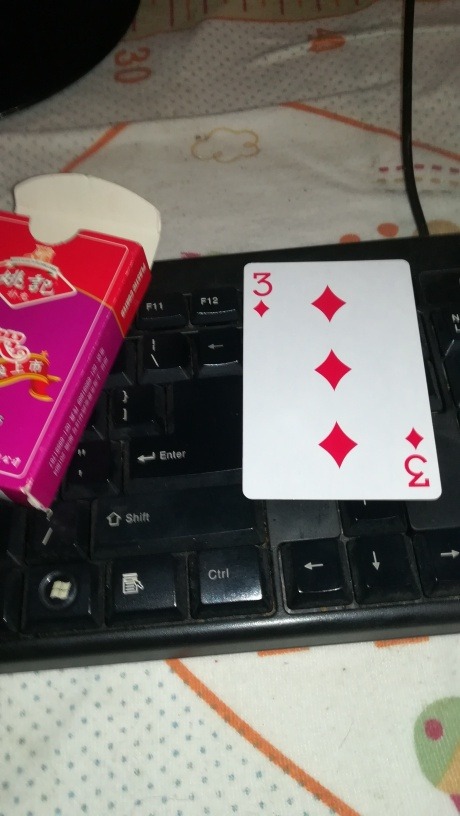fk 3: (241, 253, 447, 501)
